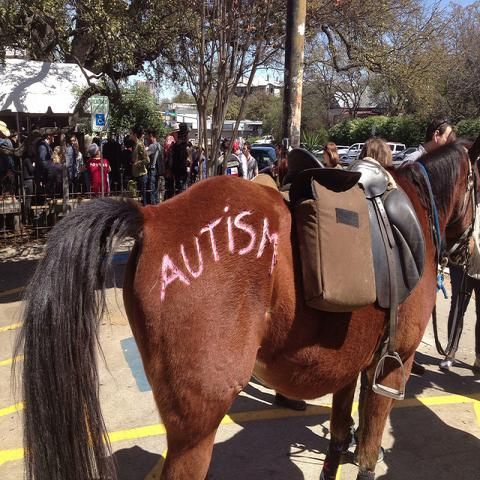car: (251, 147, 277, 172), (337, 143, 365, 160), (392, 148, 419, 161), (317, 146, 350, 154), (386, 142, 406, 154), (253, 135, 274, 143), (251, 143, 275, 149)
